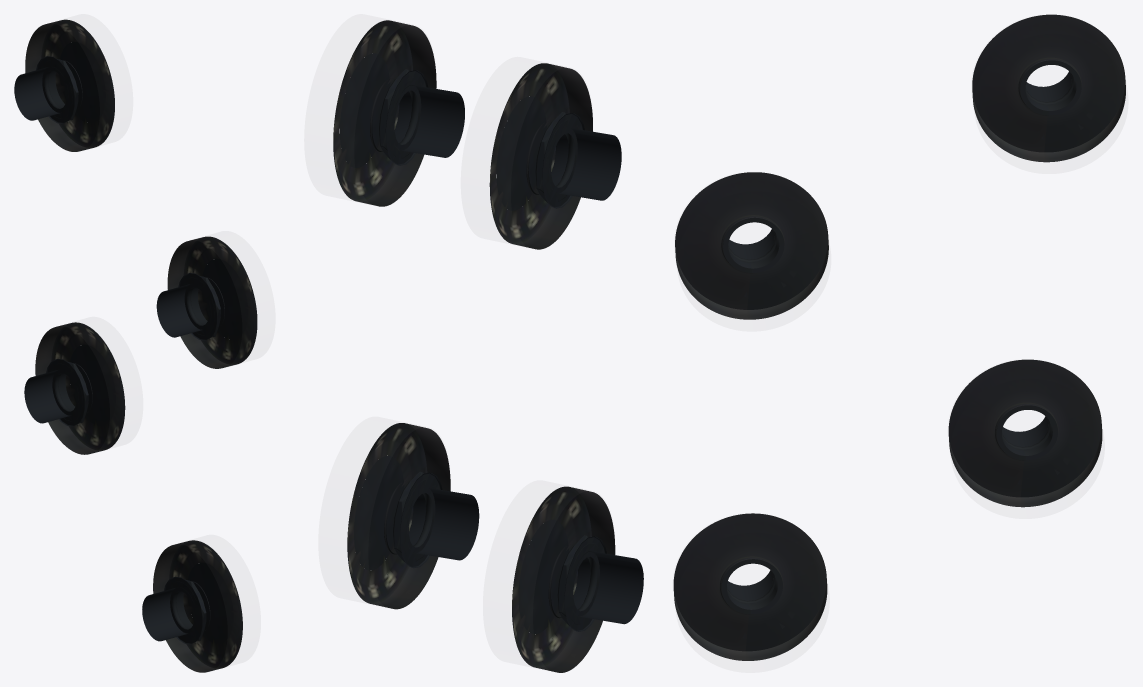
File: gibson_lespaul_SpeedKnob.min.glb
The picture shows the model from 3 angles, left to right: view 1: azimuth 30°, elevation 25°; view 2: azimuth 150°, elevation 25°; view 3: azimuth 270°, elevation 25°; orthographic projection. The views are drawn at different scales.
Visible parts, largest first — view 1: Cylinder; view 2: Cylinder; view 3: Cylinder.
Part boxes in pixels (<box>): Cylinder: <box>14,19,257,672</box>; Cylinder: <box>333,20,643,672</box>; Cylinder: <box>673,14,1125,660</box>.
Size of the model in its own units: 0.0933 by 0.5279 by 0.3415.
Materials: 8 (4 with a texture image).
